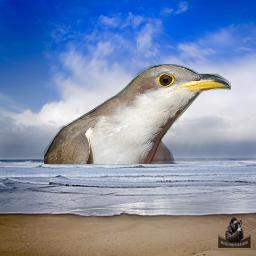Cuckoo: (44, 64, 231, 164)
